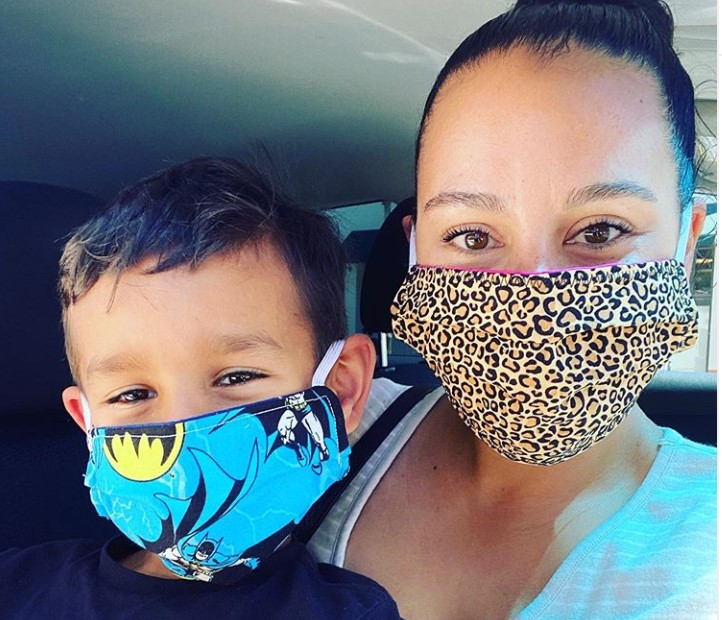face_with_mask: (384, 0, 708, 477), (59, 166, 371, 587)
